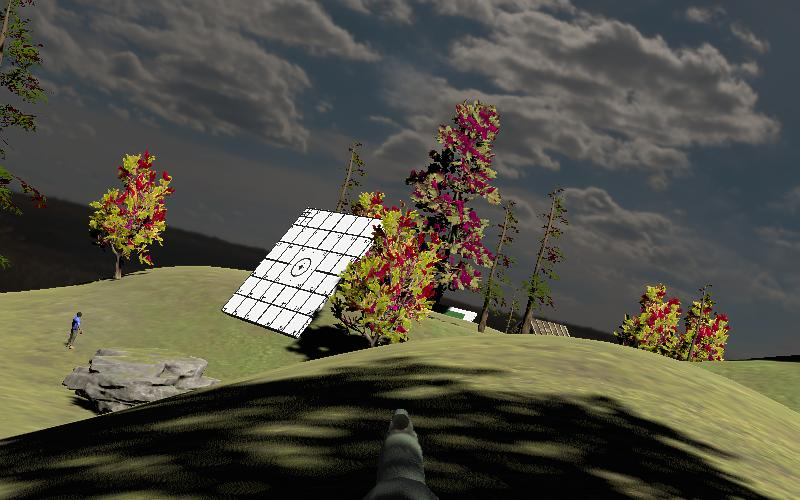Human: (64, 309, 86, 352)
